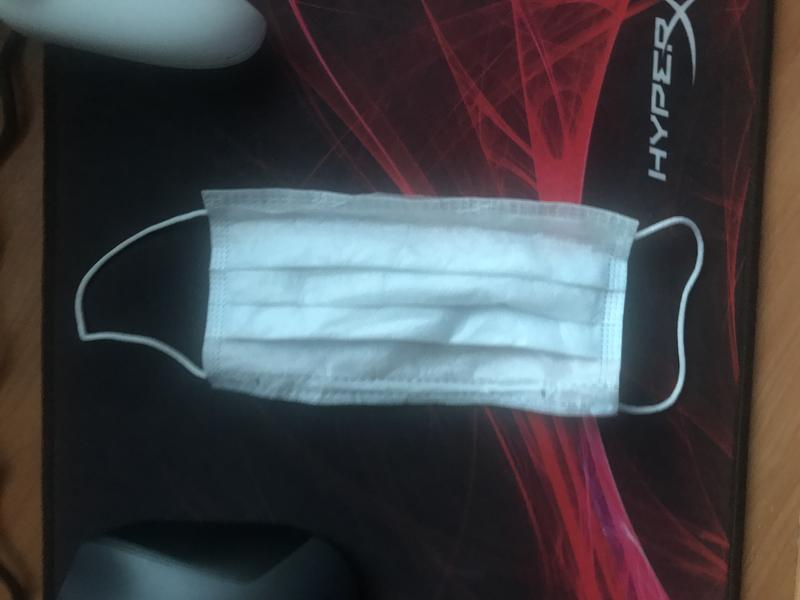medical_mask: (74, 187, 705, 419)
